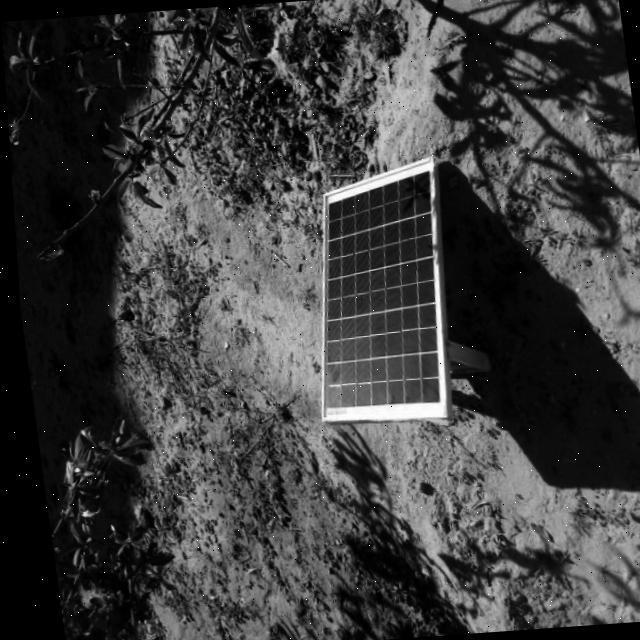Normal Solar Panel: (284, 157, 462, 427)
